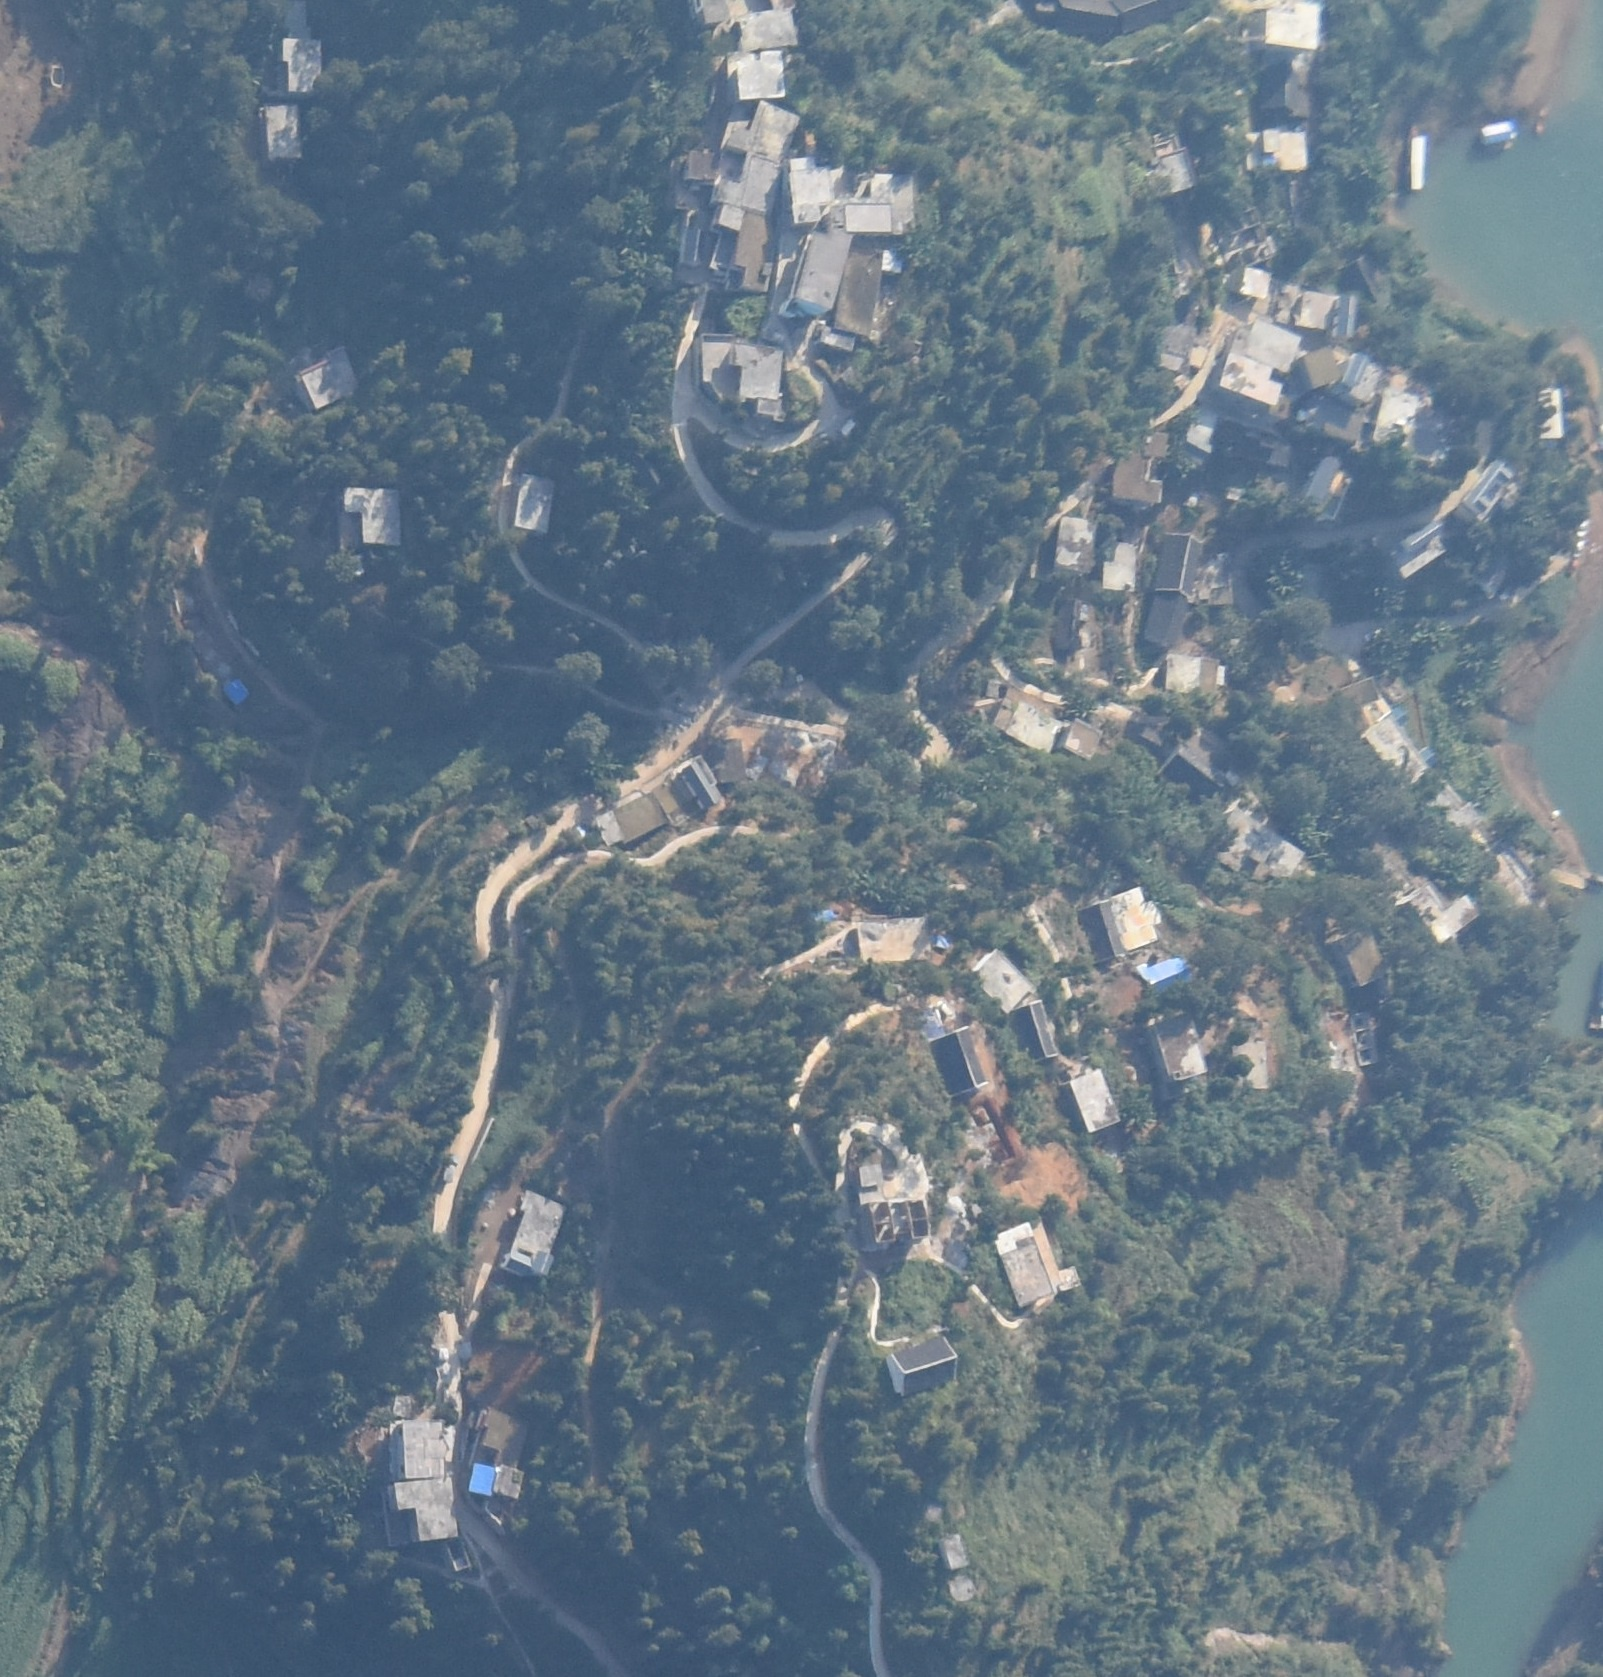building: (693, 333, 789, 423), (1416, 779, 1500, 866), (1222, 320, 1300, 407), (1474, 850, 1560, 927), (1212, 806, 1307, 874), (825, 238, 881, 349), (859, 1166, 932, 1246), (1078, 888, 1160, 959), (496, 1191, 564, 1276), (710, 205, 775, 292), (1363, 709, 1435, 786), (466, 1413, 526, 1500), (994, 1221, 1052, 1309), (653, 755, 724, 823), (388, 1479, 461, 1545), (1402, 882, 1478, 945), (700, 2, 799, 50), (796, 225, 848, 314), (714, 152, 784, 218), (724, 100, 802, 159), (886, 1336, 961, 1394), (930, 1021, 988, 1095), (297, 346, 364, 410), (1061, 1068, 1122, 1138), (1147, 1014, 1206, 1084), (845, 172, 912, 233), (596, 792, 667, 849), (1116, 431, 1169, 507), (1459, 457, 1517, 525), (338, 487, 404, 543), (1289, 285, 1357, 339), (786, 157, 836, 229), (1326, 925, 1380, 990), (974, 950, 1031, 1011), (388, 1417, 444, 1479), (995, 697, 1059, 751), (1159, 741, 1225, 791), (1392, 524, 1453, 578), (1299, 450, 1348, 517), (1155, 532, 1203, 600), (1376, 388, 1423, 455), (1255, 3, 1320, 50), (725, 49, 787, 98), (1151, 319, 1204, 374), (512, 471, 557, 535), (1012, 999, 1057, 1062), (1254, 70, 1313, 117), (1243, 130, 1309, 172), (1146, 133, 1190, 196), (258, 104, 307, 160), (277, 38, 325, 93), (1162, 655, 1226, 692), (1342, 347, 1381, 404), (1058, 519, 1097, 572), (1180, 403, 1217, 455), (1230, 1041, 1268, 1091), (1063, 718, 1103, 763), (1535, 385, 1566, 443), (1301, 349, 1344, 390), (1103, 543, 1138, 593), (1226, 266, 1272, 299), (1340, 672, 1384, 706), (683, 149, 719, 181), (940, 1531, 969, 1567), (883, 247, 906, 274)
prefabricated-house: (1141, 957, 1195, 993), (221, 677, 253, 707), (1480, 120, 1518, 145), (469, 1461, 495, 1495)
quarry: (853, 913, 946, 966)
ship: (1410, 122, 1428, 193)
well: (949, 1576, 975, 1602)
